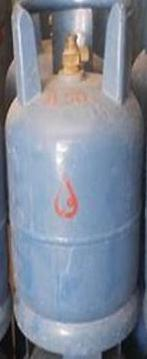cylinder: (1, 1, 147, 359)
